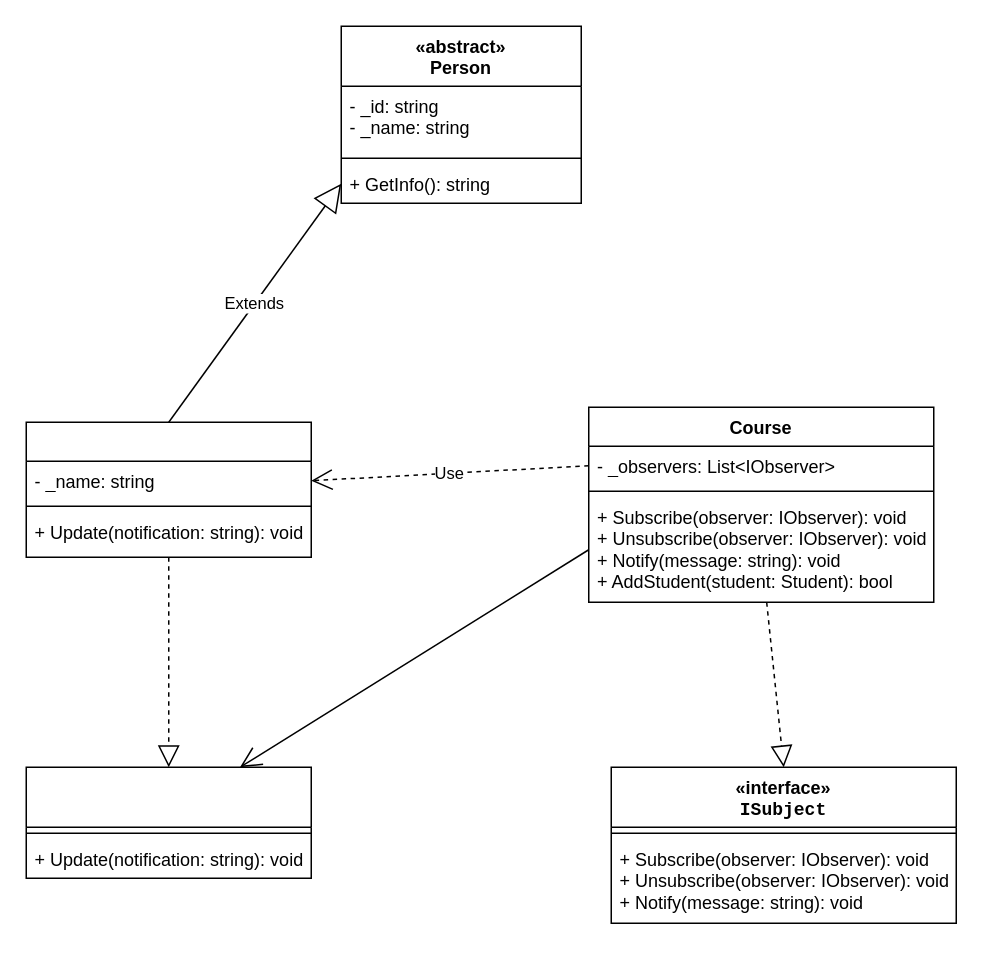
Some shapes in this 983 by 954 pixel diagram are drawn without their labels. The box of each missing label's shape, as (x1, y1, x2, y2) in pixels:
Student: (25, 421, 311, 557)
«interface» IObserver: (25, 766, 311, 878)
